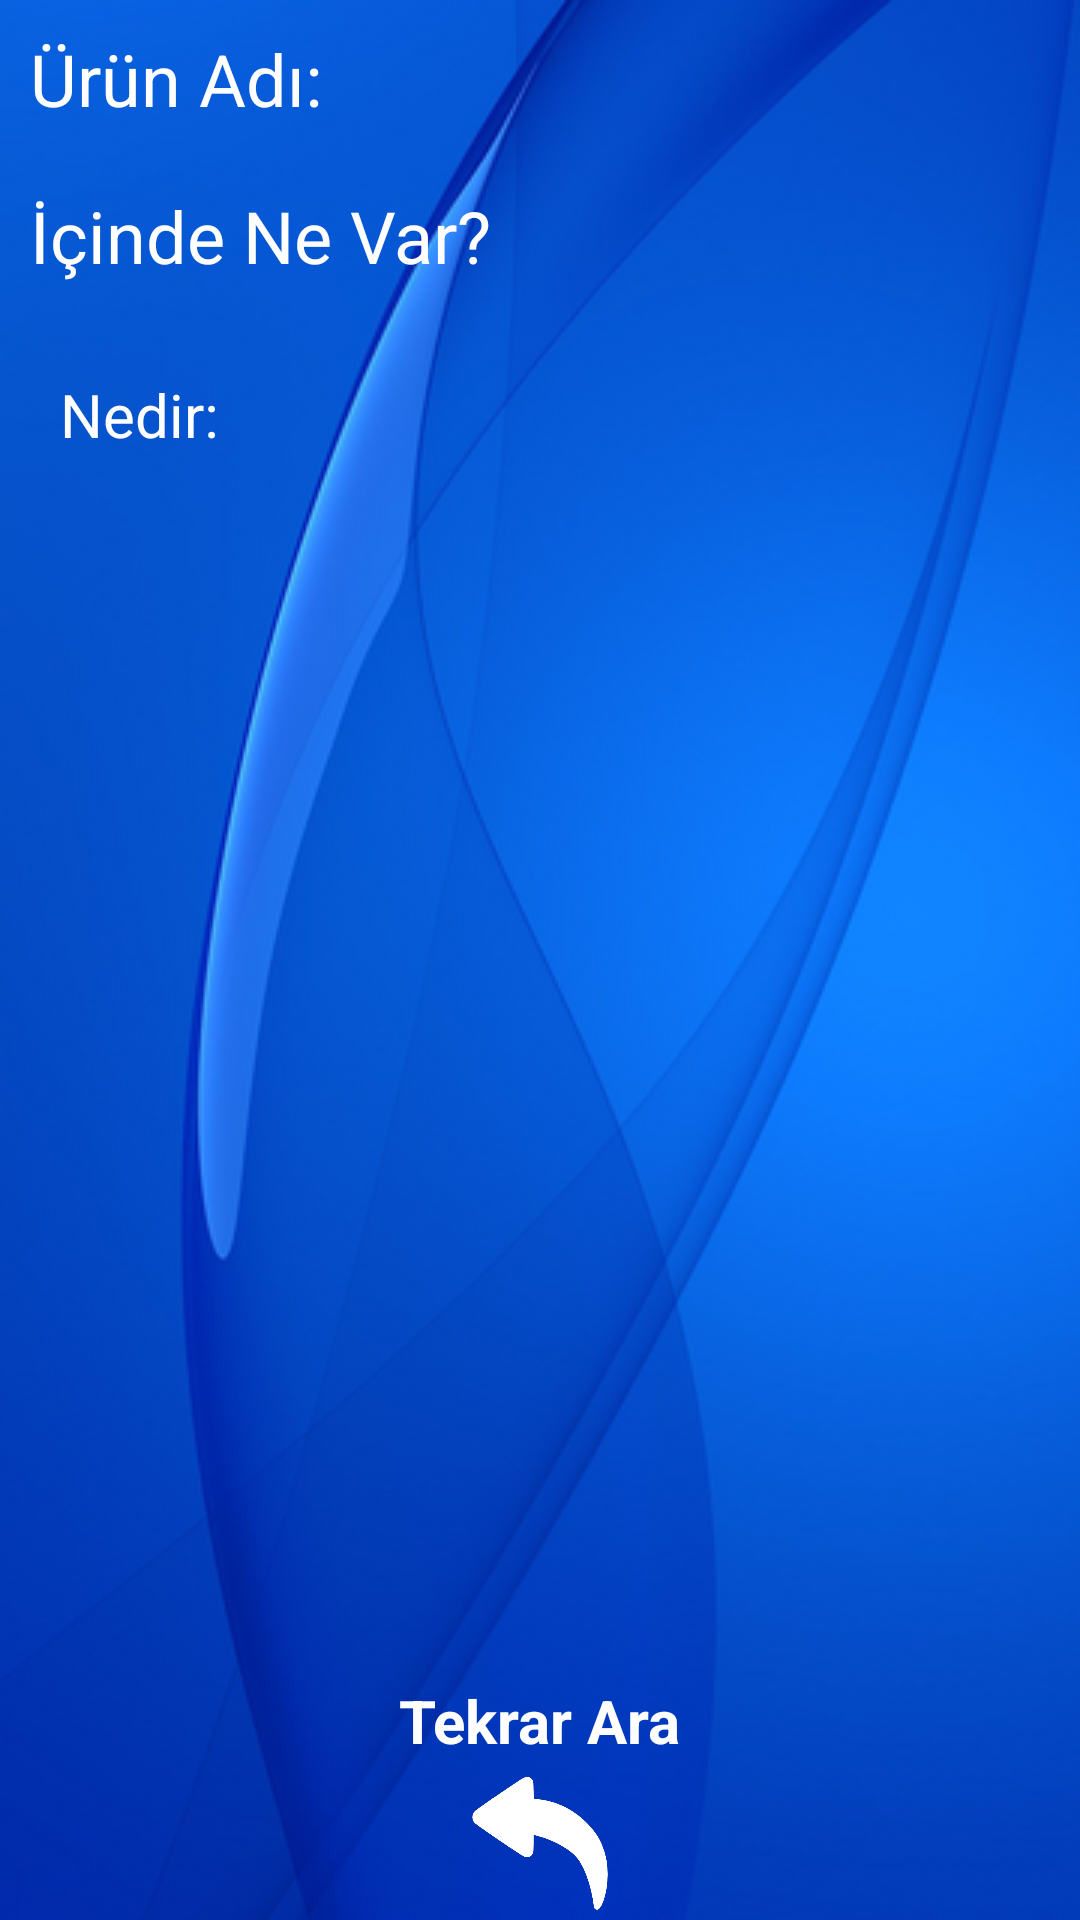

Named icons in this screenshot (1080px x 1920px) and their centers, (x=x, y=y):
turnback: (x=540, y=1843)
